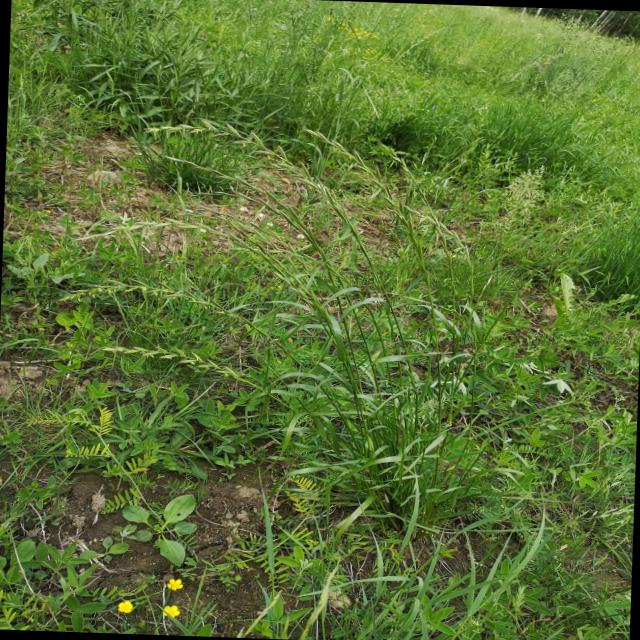Lolium: (142, 118, 308, 177), (55, 282, 244, 324), (74, 217, 208, 254), (300, 127, 382, 187), (100, 345, 240, 380), (192, 190, 294, 224), (380, 144, 433, 205), (402, 205, 470, 252)
